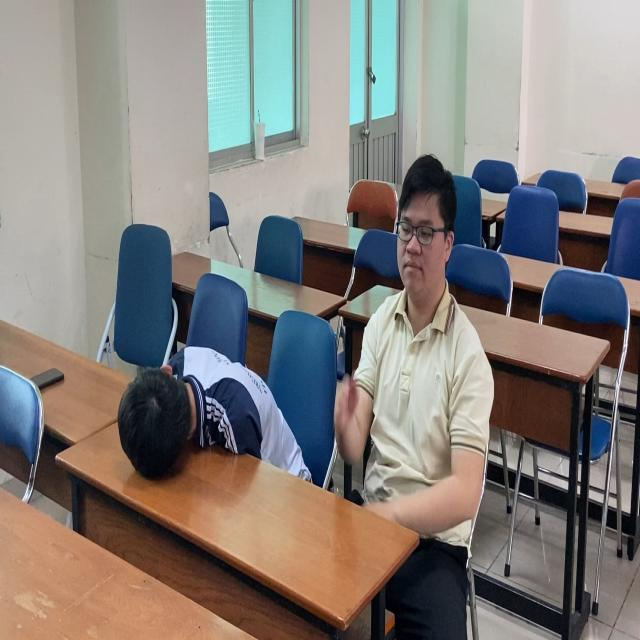sleep: (103, 320, 329, 509)
